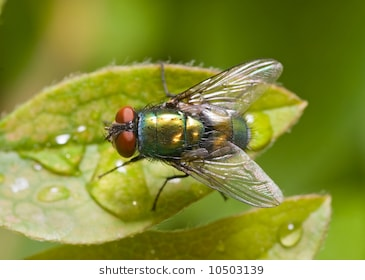green bottles fly: (86, 37, 303, 233)
